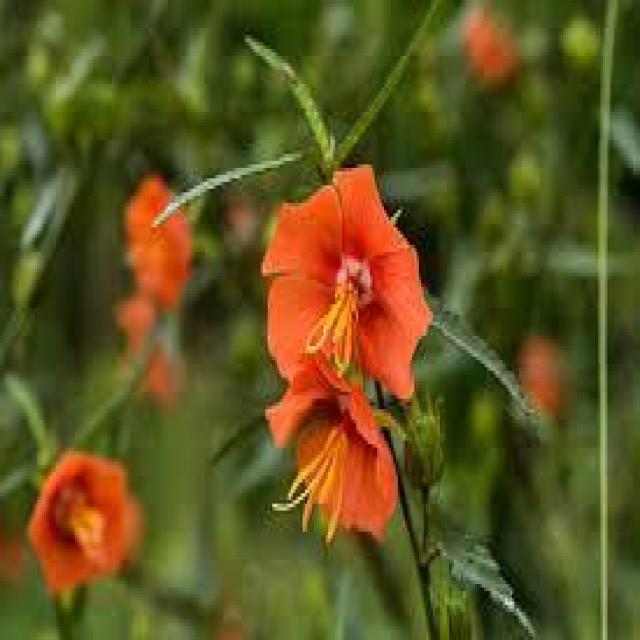organic waste: (258, 157, 436, 396), (263, 350, 407, 528), (20, 449, 136, 604)
